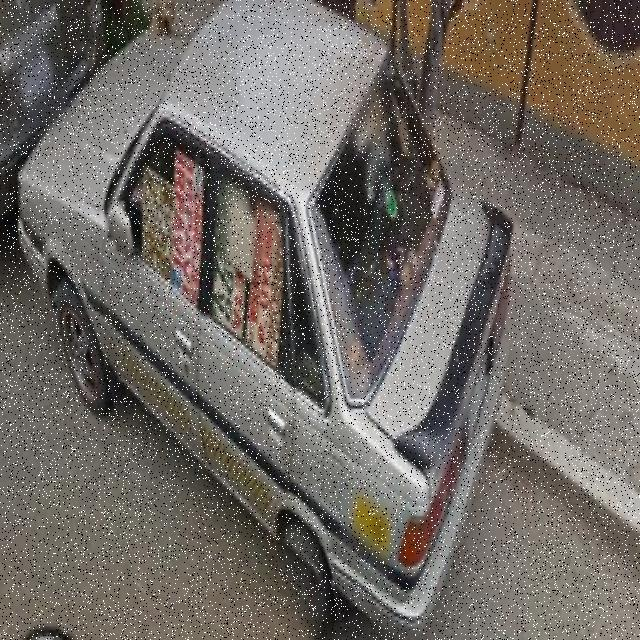cars: (17, 3, 516, 605)
